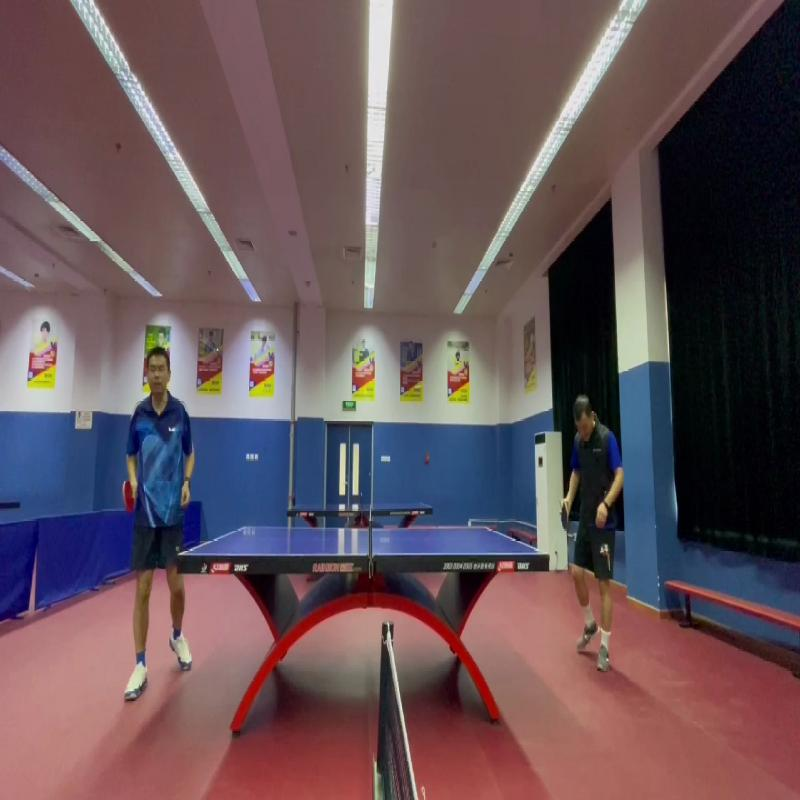bats: (118, 473, 142, 520)
